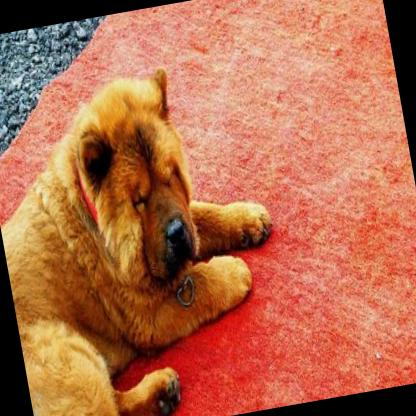chow: (0, 45, 303, 416)
